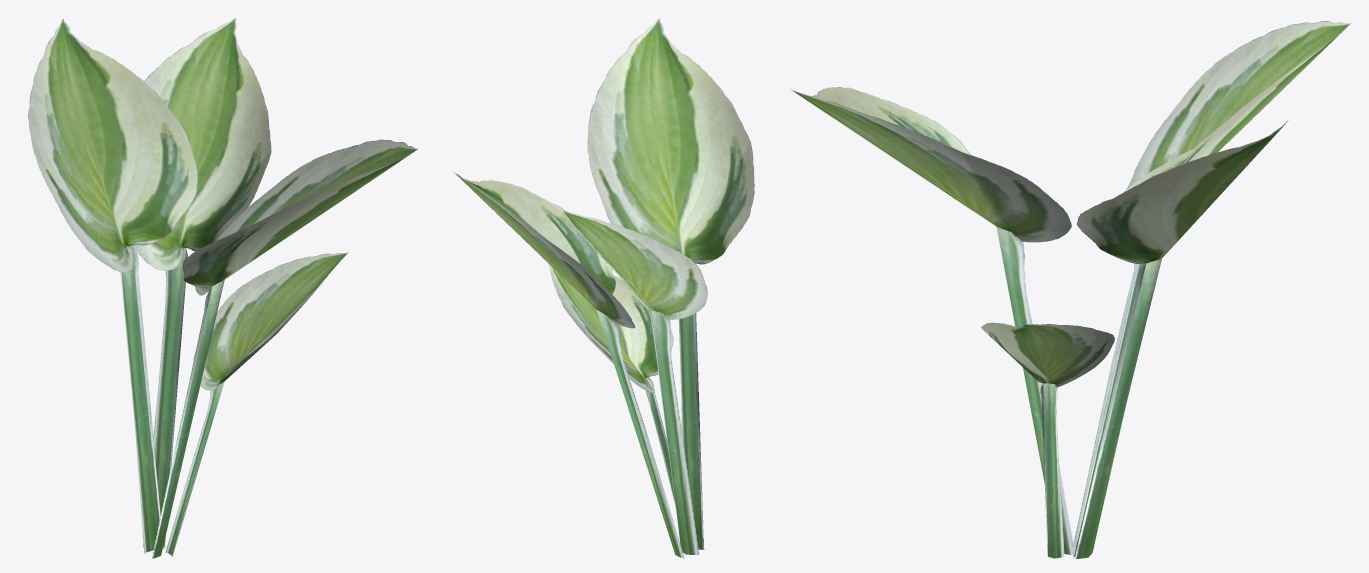
Rendered from plant_small_wg_02AA.fbx.
The picture shows the model from 3 angles, left to right: view 1: azimuth 30°, elevation 25°; view 2: azimuth 150°, elevation 25°; view 3: azimuth 270°, elevation 25°; orthographic projection. The views are drawn at different scales.
Parts seen in each view (by area): view 1: plant_small_wg_02AA; view 2: plant_small_wg_02AA; view 3: plant_small_wg_02AA.
Part boxes in pixels (x1,y1,x2,y2): plant_small_wg_02AA: (28, 18, 417, 558); plant_small_wg_02AA: (453, 18, 754, 558); plant_small_wg_02AA: (791, 21, 1350, 558).
Bounding box in the file's own units: 26.86 × 48.45 × 44.96.
